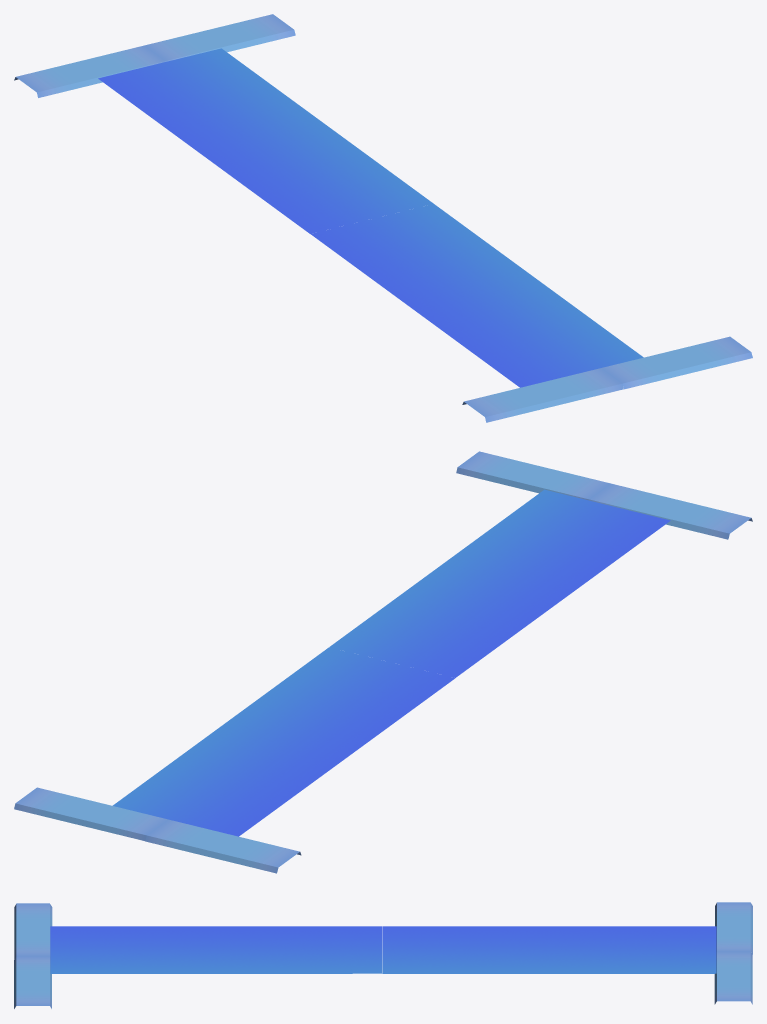
File: Area_07_18.fbx
3 views of the same model, one above another, from view 1: azimuth 30°, elevation 25°; view 2: azimuth 150°, elevation 25°; view 3: azimuth 270°, elevation 25° (orthographic). The views are drawn at different scales.
Visible parts, largest first — view 1: Area_07_18; view 2: Area_07_18; view 3: Area_07_18.
Part boxes in pixels (bbox=[...]): Area_07_18: bbox=[14, 14, 752, 422]; Area_07_18: bbox=[14, 451, 752, 873]; Area_07_18: bbox=[14, 902, 752, 1008].
Bounding box in the file's own units: 1699 × 29.72 × 5120.
